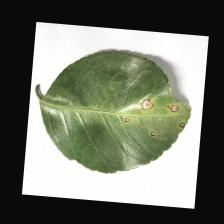canker: (108, 82, 188, 154)
